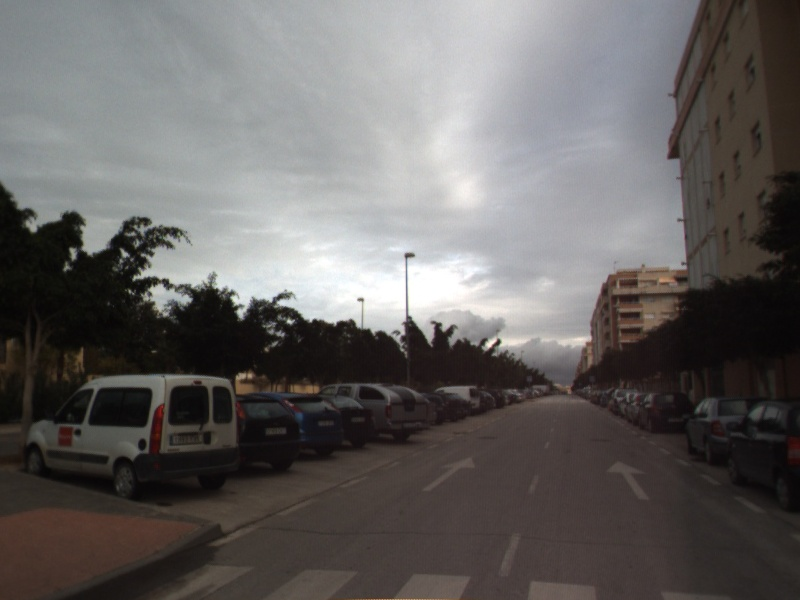STRAIGHT: (421, 455, 477, 493), (604, 458, 652, 502)
